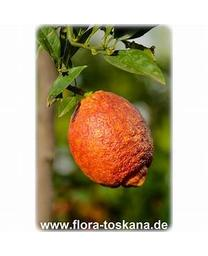lemon: (69, 90, 152, 188)
